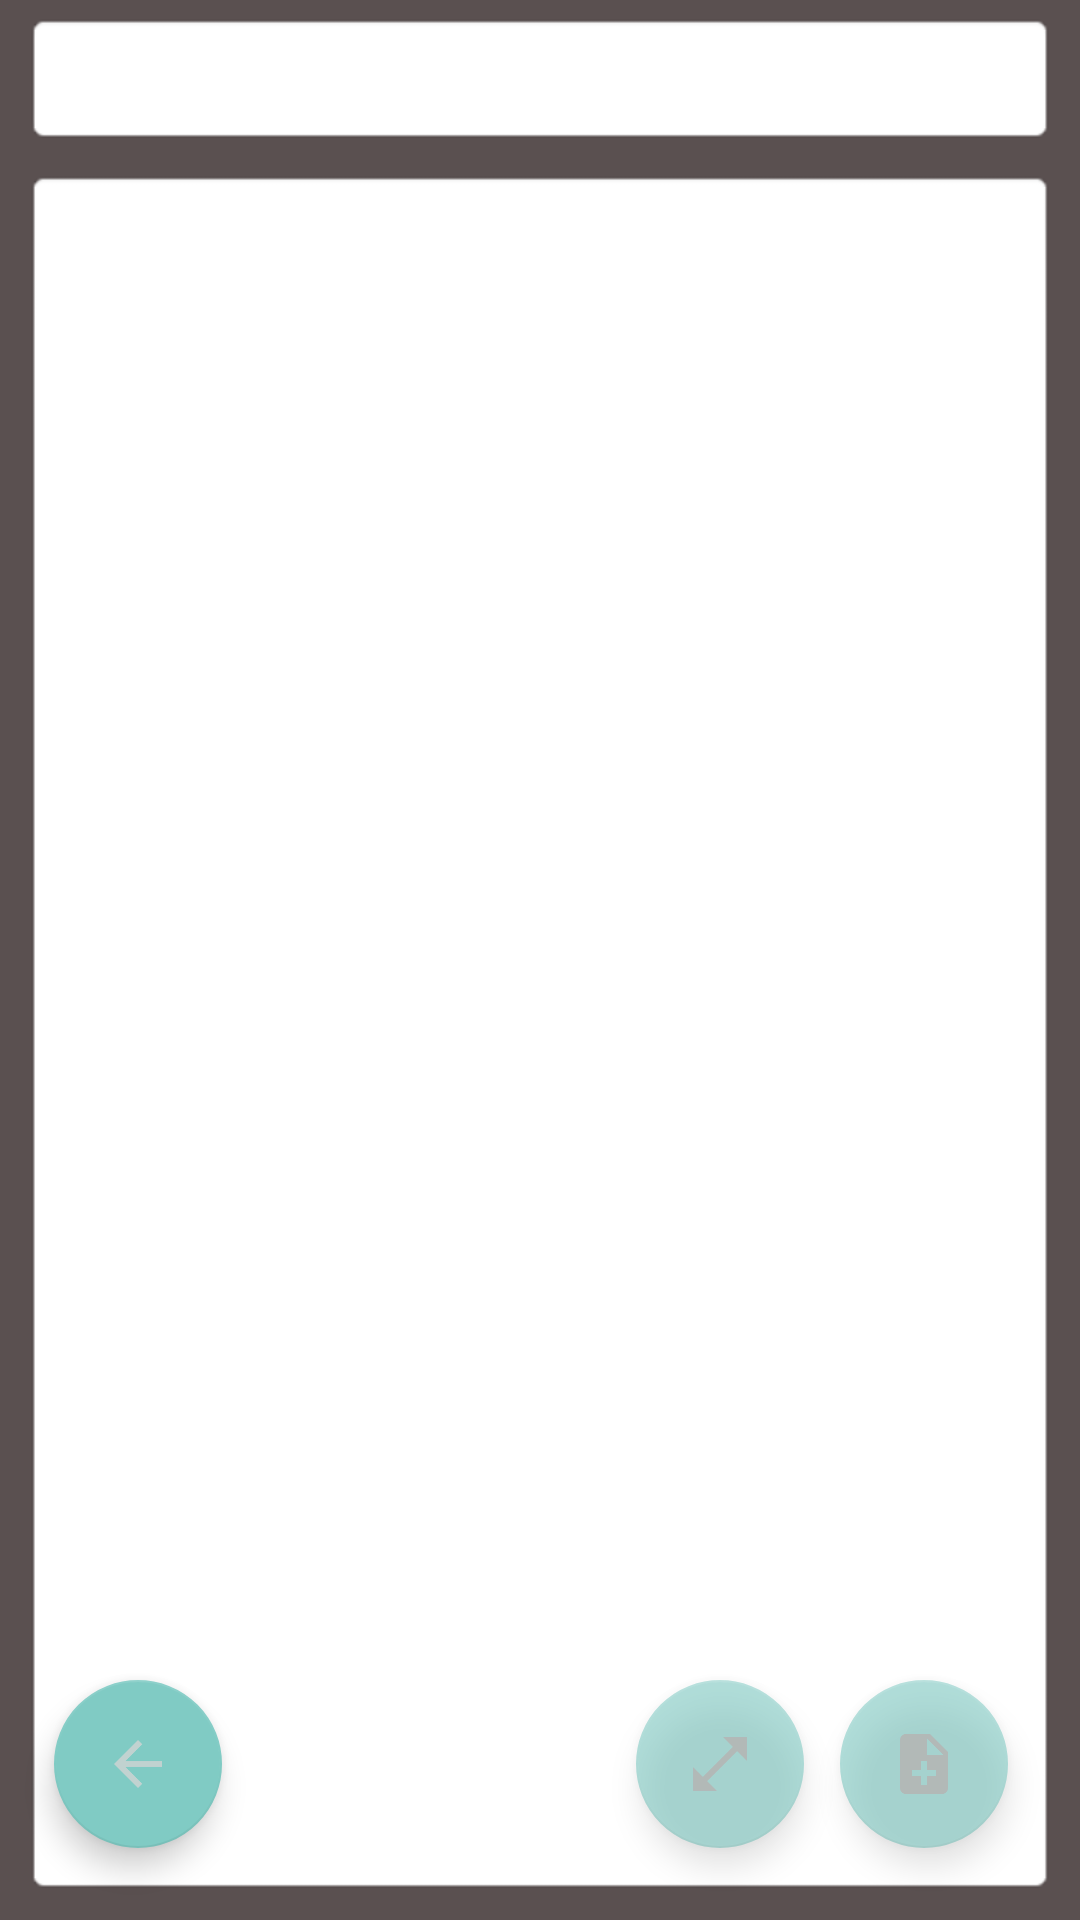

Screen size 1080px×1920px. Icon name, then its box in pixels as Rect(x1, y1, x2, y2):
arrow back: Rect(54, 1680, 222, 1848)
note add: Rect(840, 1680, 1008, 1848)
open in full: Rect(636, 1680, 804, 1848)
